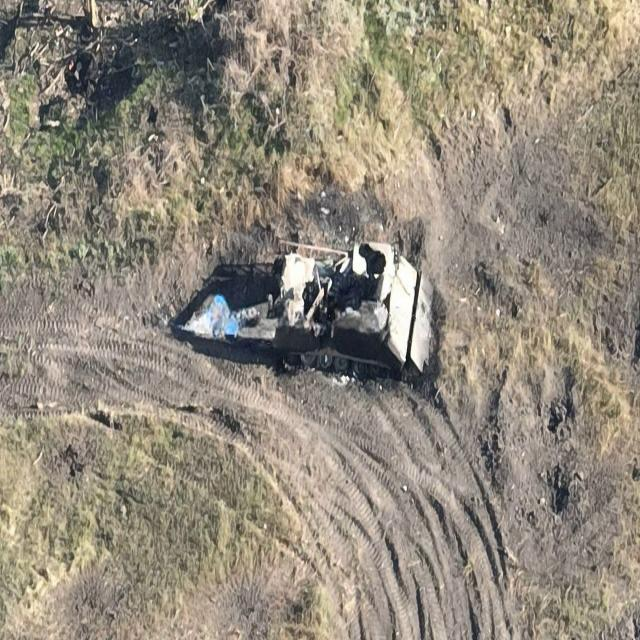APC: (275, 238, 439, 384)
